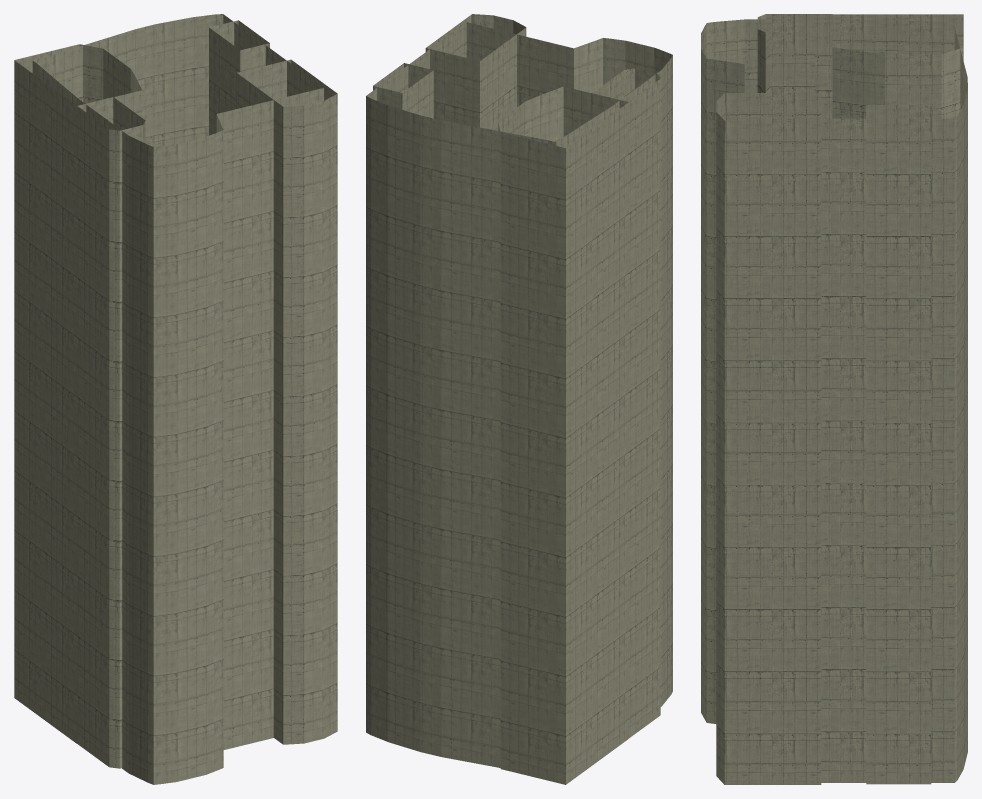
File: SM_NeoLD_12_Block_02.fbx
3 views of the same model, side by side, from view 1: azimuth 30°, elevation 25°; view 2: azimuth 150°, elevation 25°; view 3: azimuth 270°, elevation 25° (orthographic). The views are drawn at different scales.
Visible parts, largest first — view 1: SM_NeoLD_12_Block_02; view 2: SM_NeoLD_12_Block_02; view 3: SM_NeoLD_12_Block_02.
Boxes of the visible parts, x1=… form: SM_NeoLD_12_Block_02: x1=14, y1=14, x2=337, y2=784; SM_NeoLD_12_Block_02: x1=366, y1=14, x2=672, y2=784; SM_NeoLD_12_Block_02: x1=701, y1=14, x2=967, y2=784.
Bounding box in the file's own units: 3553 × 10383 × 3776.
